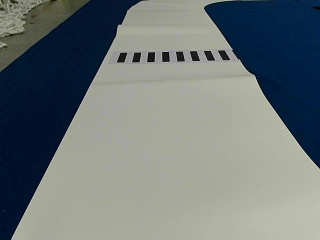crosswalk: (113, 48, 228, 62)
